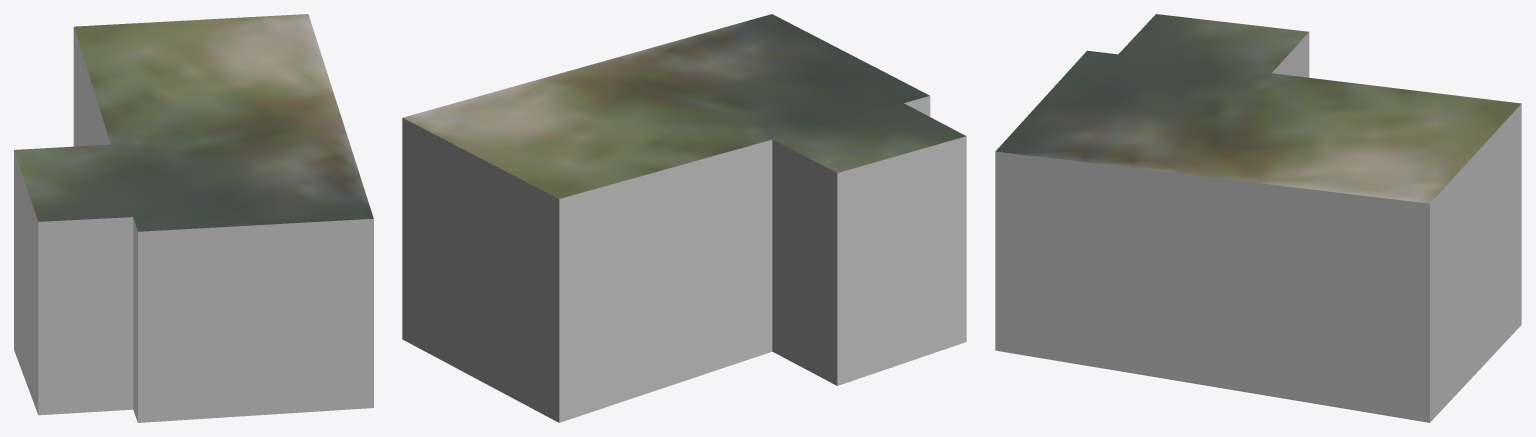
File: DEBW_0010007Txff.gltf
3 views of the same model, side by side, from view 1: azimuth 30°, elevation 25°; view 2: azimuth 150°, elevation 25°; view 3: azimuth 270°, elevation 25° (orthographic). The views are drawn at different scales.
Parts seen in each view (by area): view 1: Z_UP; view 2: Z_UP; view 3: Z_UP.
Part boxes in pixels (box(x1,y1,x2,y2)): Z_UP: box(14, 14, 373, 422); Z_UP: box(402, 14, 966, 422); Z_UP: box(995, 14, 1521, 422).
Size of the model in its own units: 5.93 by 2.98 by 6.42.
2 materials, 1 textured.
